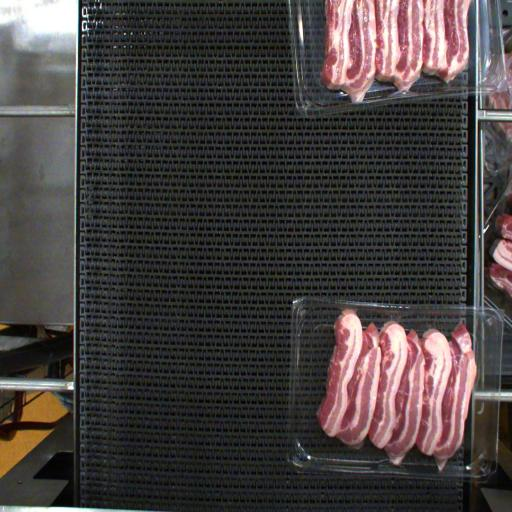packaging-error: (340, 304, 362, 315), (389, 314, 400, 324)
